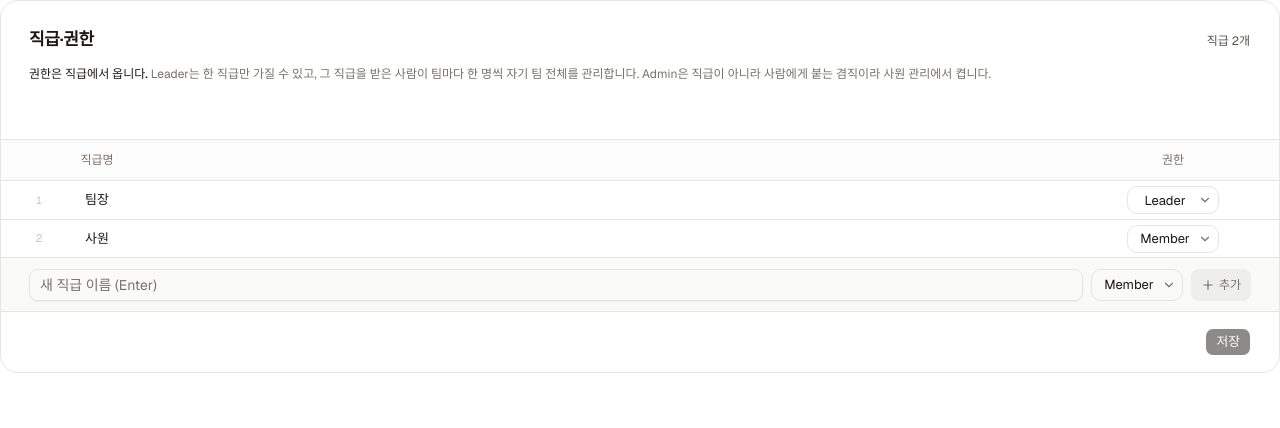
저장 실패 문구 › 서버가 막으면 그 사유를 저장 줄에 남긴다
Type "대리" into the field with placeholder "새 직급 이름 (Enter)". click: (556, 284)
box: [29,268,1083,300]
Then press Enter
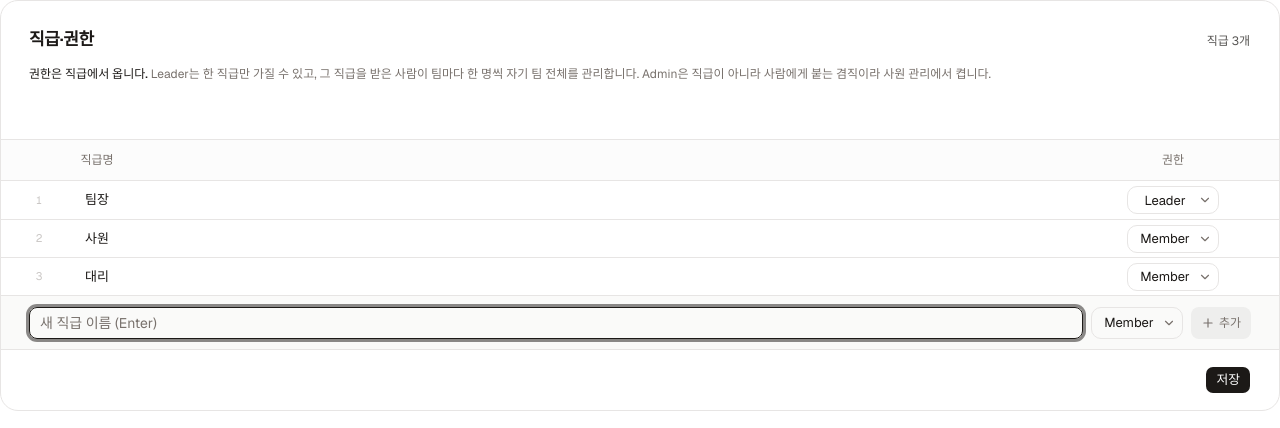
Click the button "저장". click: (1228, 380)
box: [1206,366,1251,394]
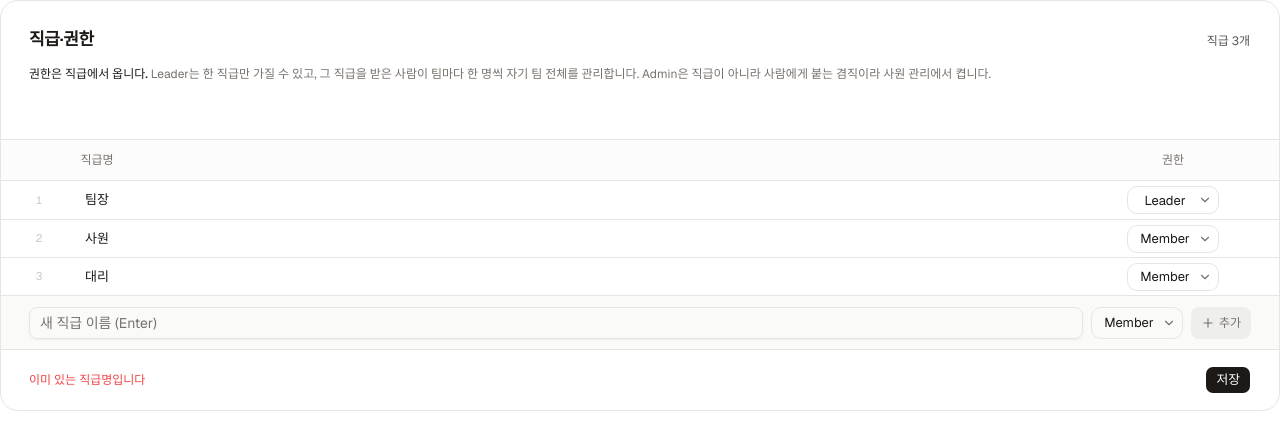
Check: the text "이미 있는 직급명입니다" is shown, box [29,372,145,388]
